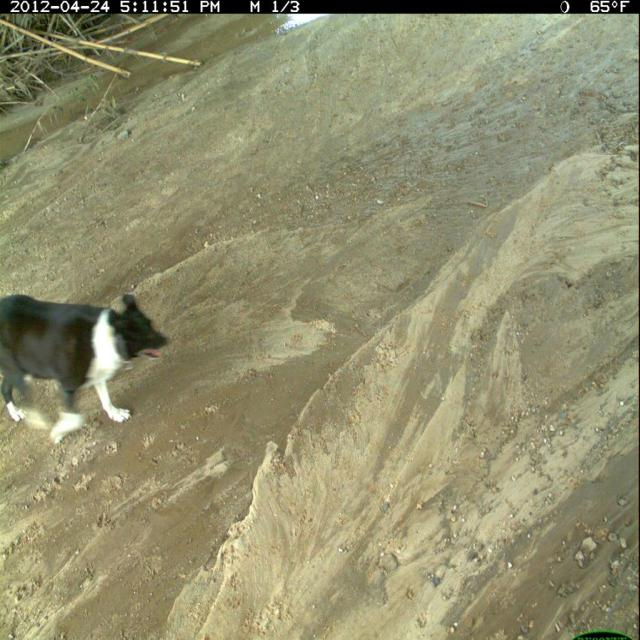dog: (2, 287, 175, 448)
